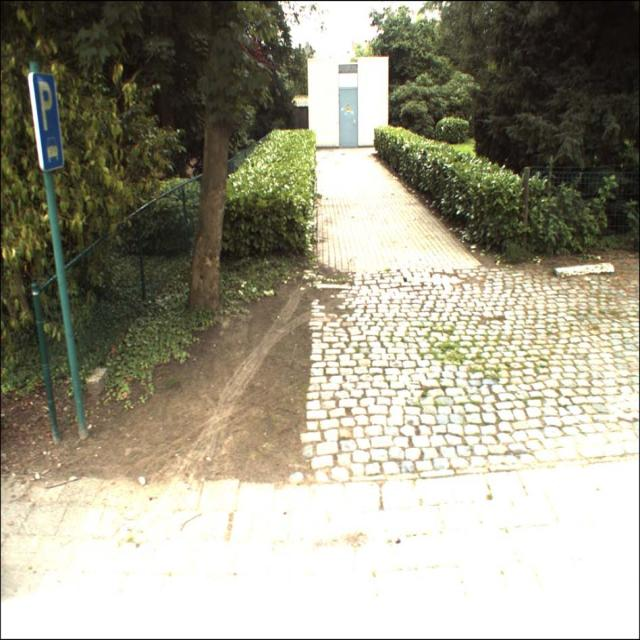park: (30, 74, 67, 172)
